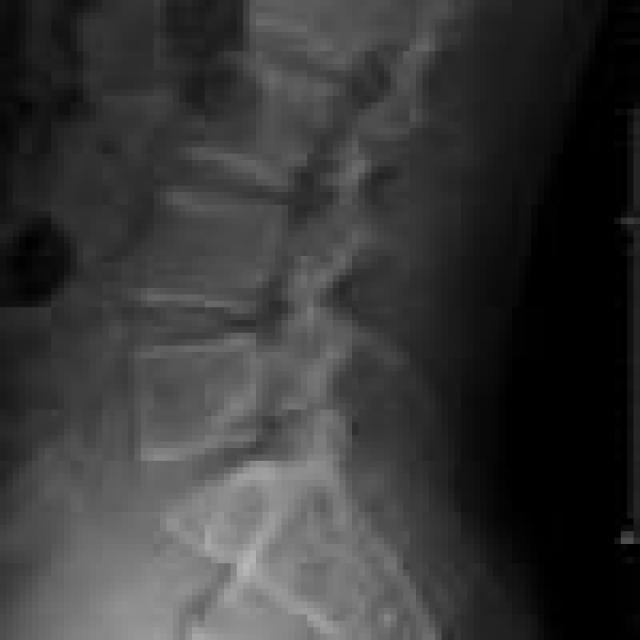Avulsion-fracture-: (113, 110, 431, 515)
